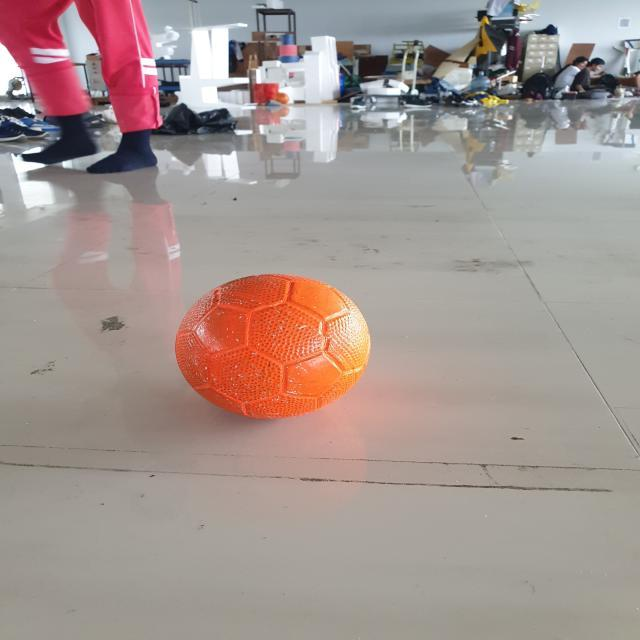bola: (122, 251, 424, 431)
